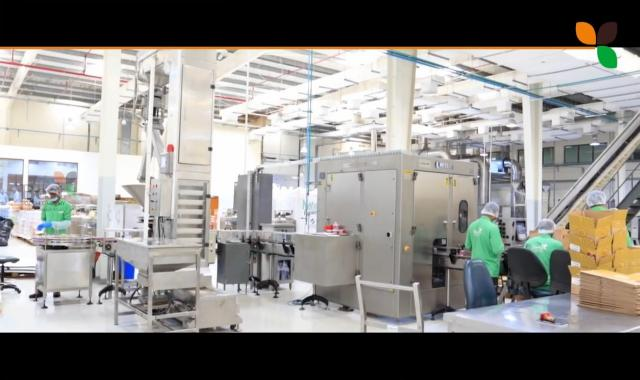hairnet: (484, 201, 501, 220), (537, 216, 554, 234), (587, 189, 605, 206), (46, 183, 61, 197)
